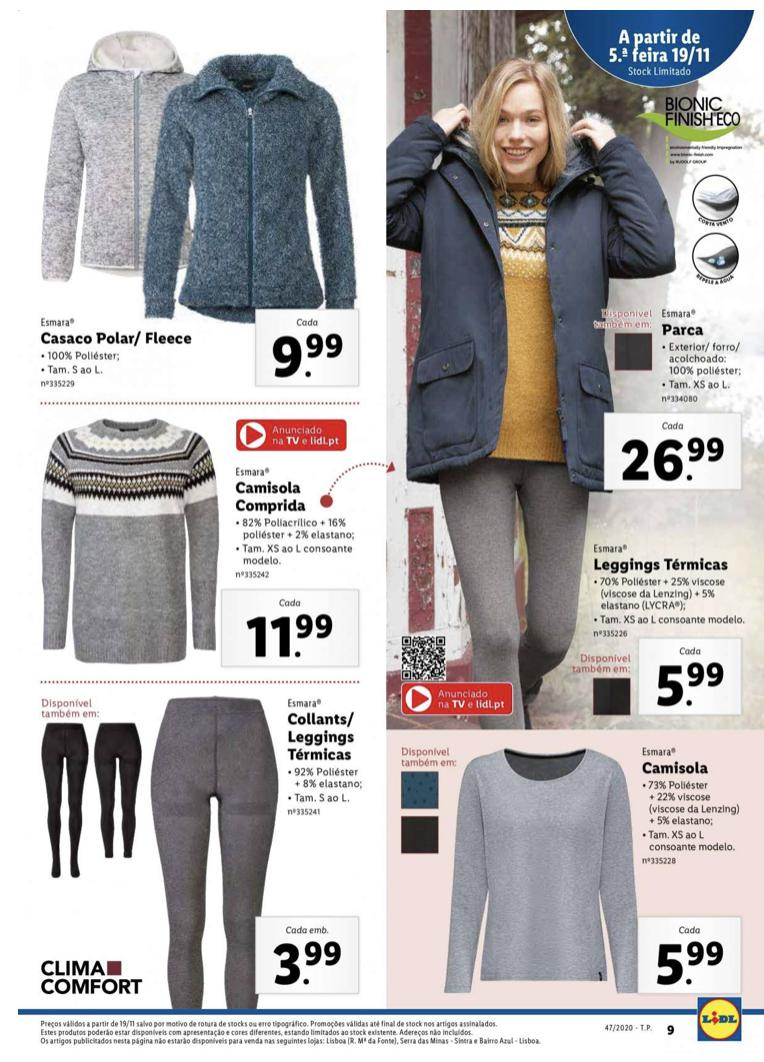name: (286, 708, 362, 764), (37, 328, 196, 351), (230, 476, 309, 518), (594, 555, 736, 574), (634, 758, 716, 780), (658, 322, 707, 339)
price: (611, 432, 729, 483), (246, 610, 334, 660), (650, 658, 729, 708), (653, 935, 726, 986), (272, 936, 344, 986), (271, 333, 345, 381)
product: (391, 66, 753, 490), (30, 22, 372, 397), (28, 690, 371, 998), (395, 736, 757, 997), (30, 407, 363, 670), (394, 490, 753, 724)
